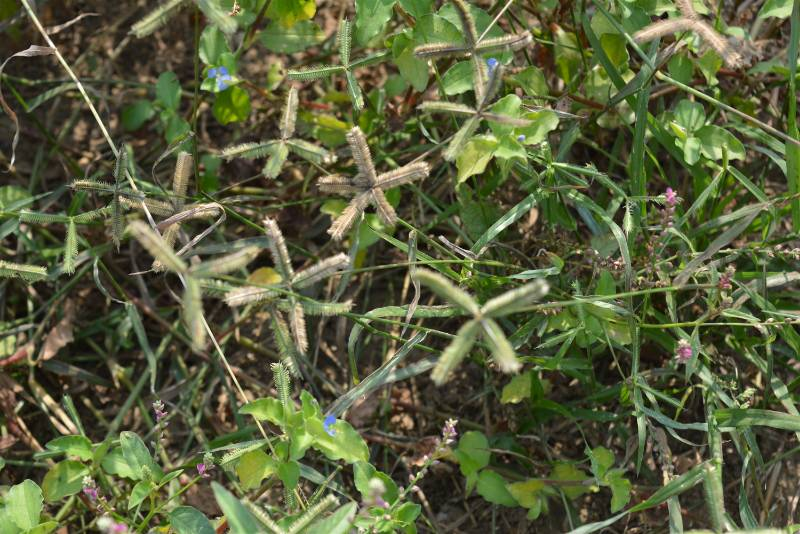plant: (238, 421, 325, 491), (51, 441, 165, 492), (463, 431, 530, 502), (674, 109, 733, 162)
weed: (336, 128, 421, 261), (424, 269, 524, 380), (245, 228, 322, 348), (422, 17, 519, 103), (86, 202, 191, 277), (20, 207, 81, 284), (316, 30, 381, 102), (256, 114, 316, 191), (123, 21, 259, 47), (644, 10, 723, 51)
